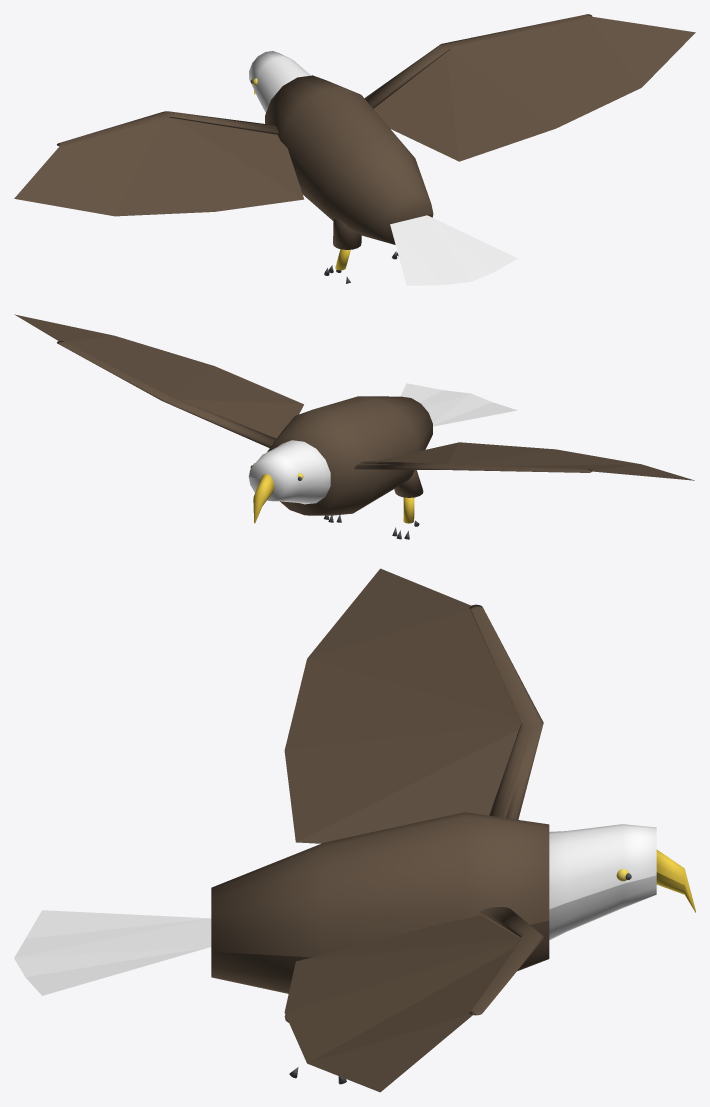
File: buse.glb
3 renders of one model, top to bottom at view 1: azimuth 30°, elevation 25°; view 2: azimuth 150°, elevation 25°; view 3: azimuth 270°, elevation 25°, orthographic. The views are drawn at different scales.
Parts seen in each view (by area): view 1: Eagle_Feathers_R, Eagle_Feathers_L, Eagle_Torso, Eagle_Tail, Eagle_Wing_Arm_R, Eagle_Head_Neck, Eagle_Wing_Arm_L, Eagle_Thigh_L; view 2: Eagle_Torso, Eagle_Feathers_R, Eagle_Feathers_L, Eagle_Head_Neck, Eagle_Tail, Eagle_Wing_Arm_R, Eagle_Wing_Arm_L, Eagle_Beak, Eagle_Thigh_L; view 3: Eagle_Feathers_L, Eagle_Torso, Eagle_Feathers_R, Eagle_Tail, Eagle_Head_Neck, Eagle_Wing_Arm_L, Eagle_Wing_Arm_R, Eagle_Beak.
Part boxes in pixels (box(x1,y1,x2,y2)): Eagle_Feathers_R: box(373, 16, 695, 161); Eagle_Feathers_L: box(14, 117, 304, 216); Eagle_Torso: box(265, 75, 433, 244); Eagle_Tail: box(390, 215, 517, 285); Eagle_Wing_Arm_R: box(364, 14, 592, 108); Eagle_Head_Neck: box(249, 51, 310, 112); Eagle_Wing_Arm_L: box(57, 111, 278, 146); Eagle_Thigh_L: box(333, 218, 361, 249); Eagle_Torso: box(267, 396, 432, 515); Eagle_Feathers_R: box(14, 314, 303, 438); Eagle_Feathers_L: box(377, 442, 694, 480); Eagle_Head_Neck: box(248, 440, 330, 504); Eagle_Tail: box(400, 383, 517, 426); Eagle_Wing_Arm_R: box(57, 340, 276, 448); Eagle_Wing_Arm_L: box(354, 461, 592, 472); Eagle_Beak: box(253, 474, 274, 523); Eagle_Thigh_L: box(394, 470, 423, 497); Eagle_Feathers_L: box(284, 568, 520, 843); Eagle_Torso: box(211, 812, 549, 993); Eagle_Feathers_R: box(284, 915, 520, 1092); Eagle_Tail: box(14, 910, 211, 995); Eagle_Head_Neck: box(549, 824, 656, 940); Eagle_Wing_Arm_L: box(469, 604, 543, 819); Eagle_Wing_Arm_R: box(469, 907, 543, 1015); Eagle_Beak: box(656, 849, 695, 912).
Bounding box in the file's own units: 2.2 × 0.4743 × 1.21.
